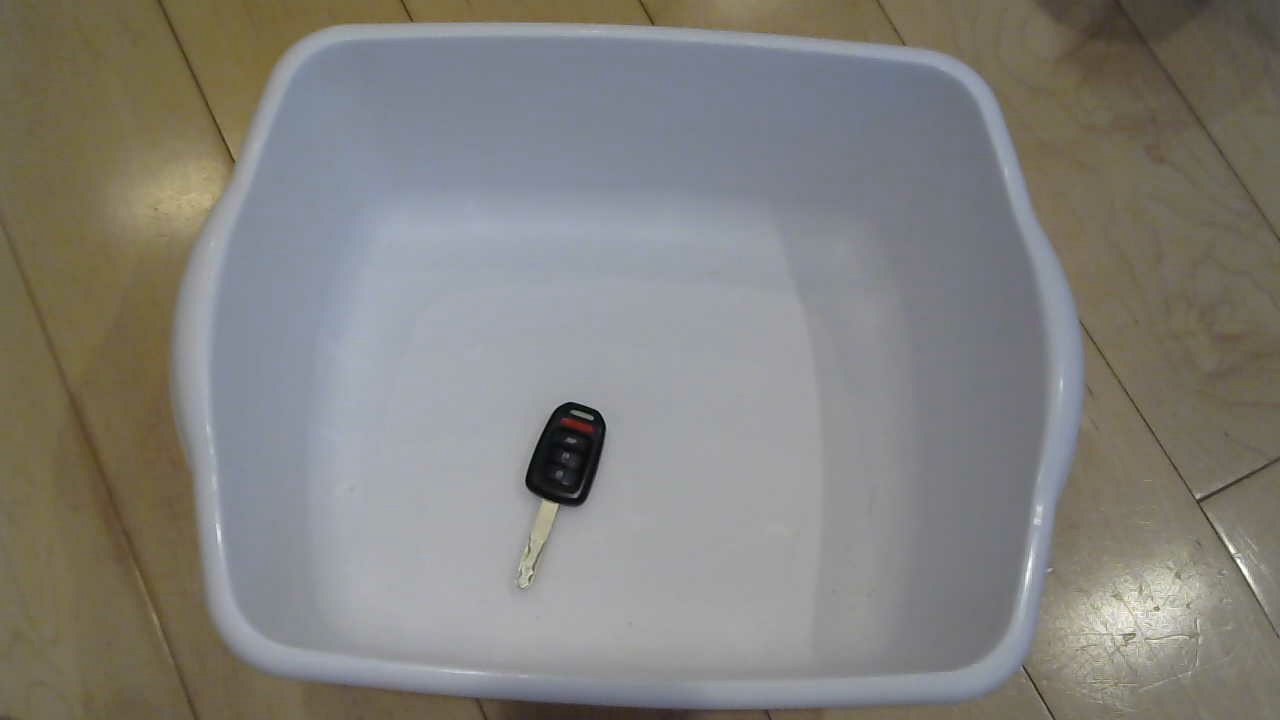key: (508, 397, 618, 603)
